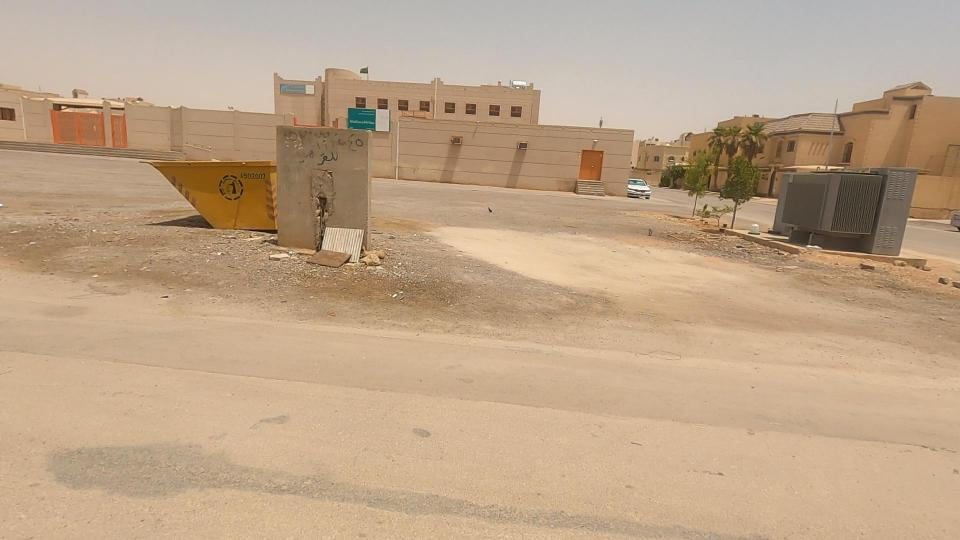GARBAGE: (260, 191, 433, 306), (239, 221, 331, 294), (779, 226, 845, 267), (740, 207, 775, 255)
GRAFFITI: (239, 108, 400, 193)
